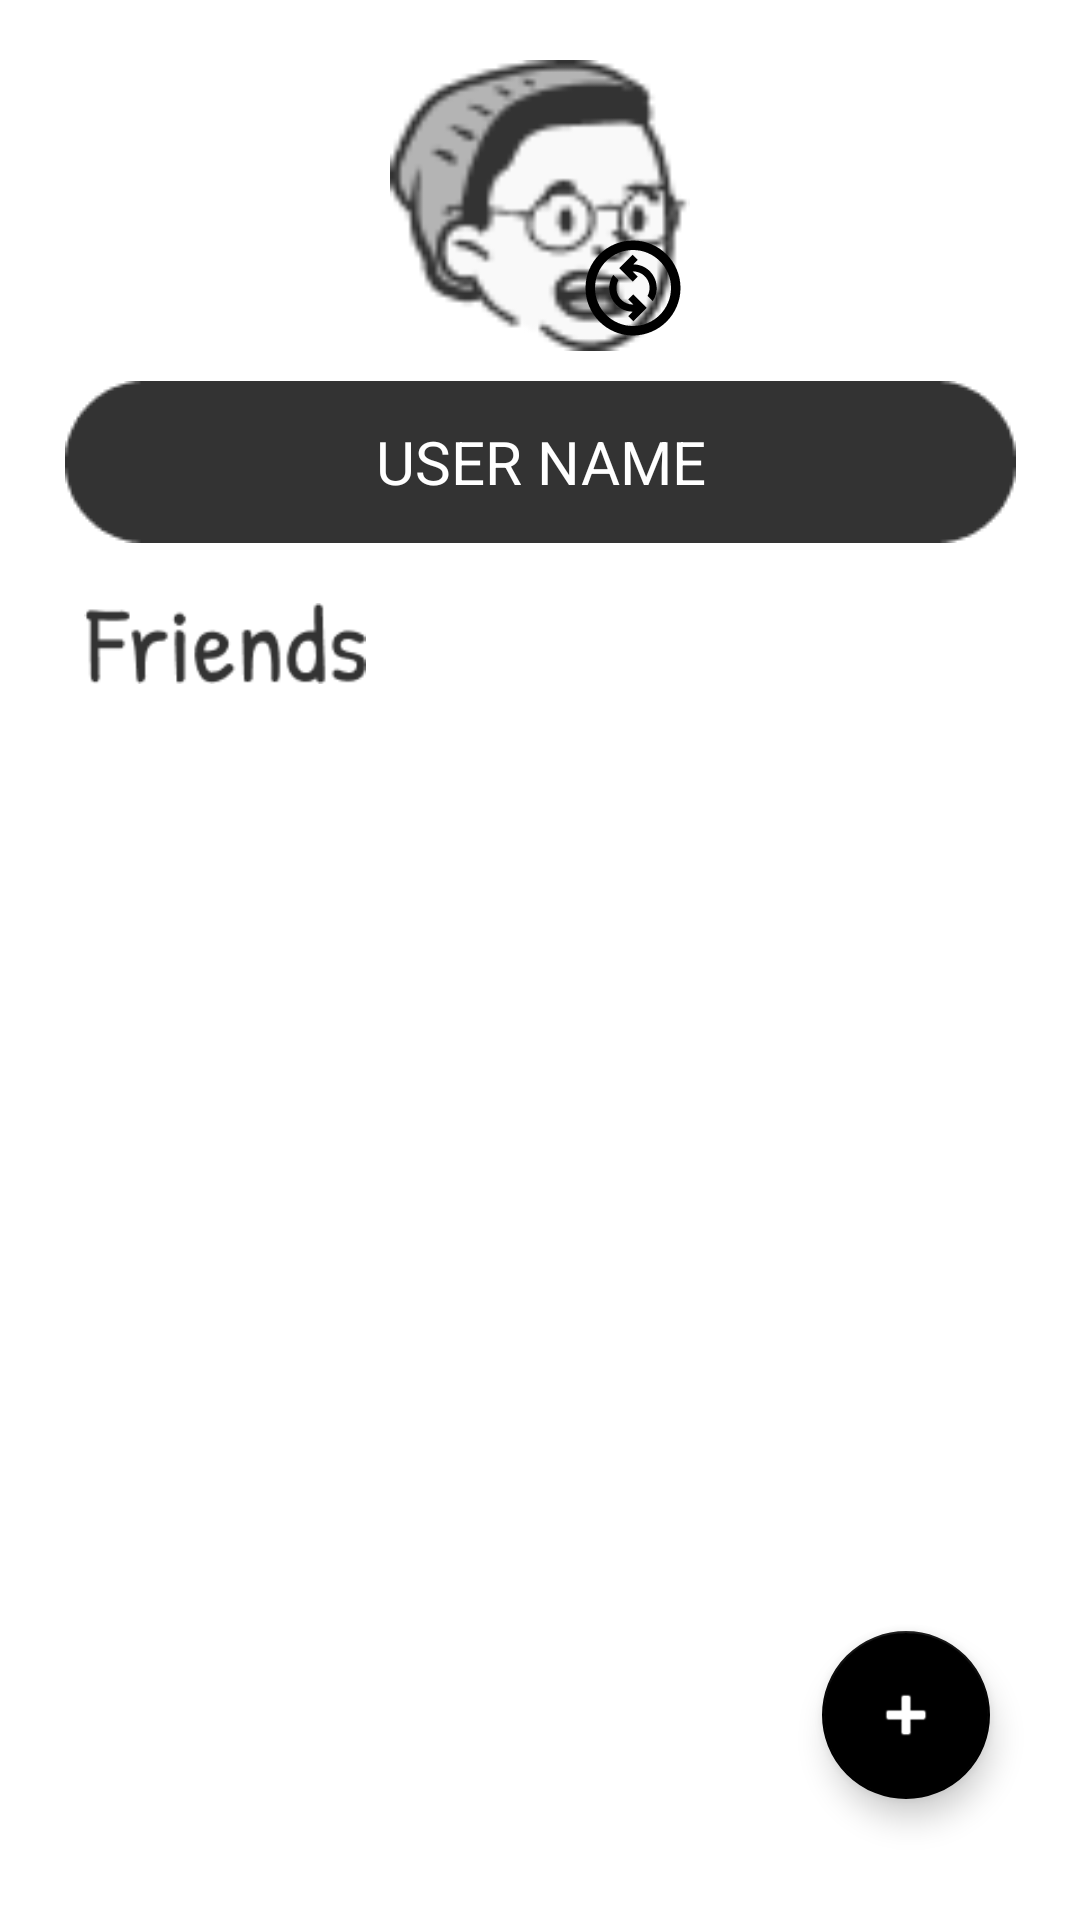

Point at icon controls on the screen. Image size 1080×1920, points as (x,y).
add: (906,1715)
